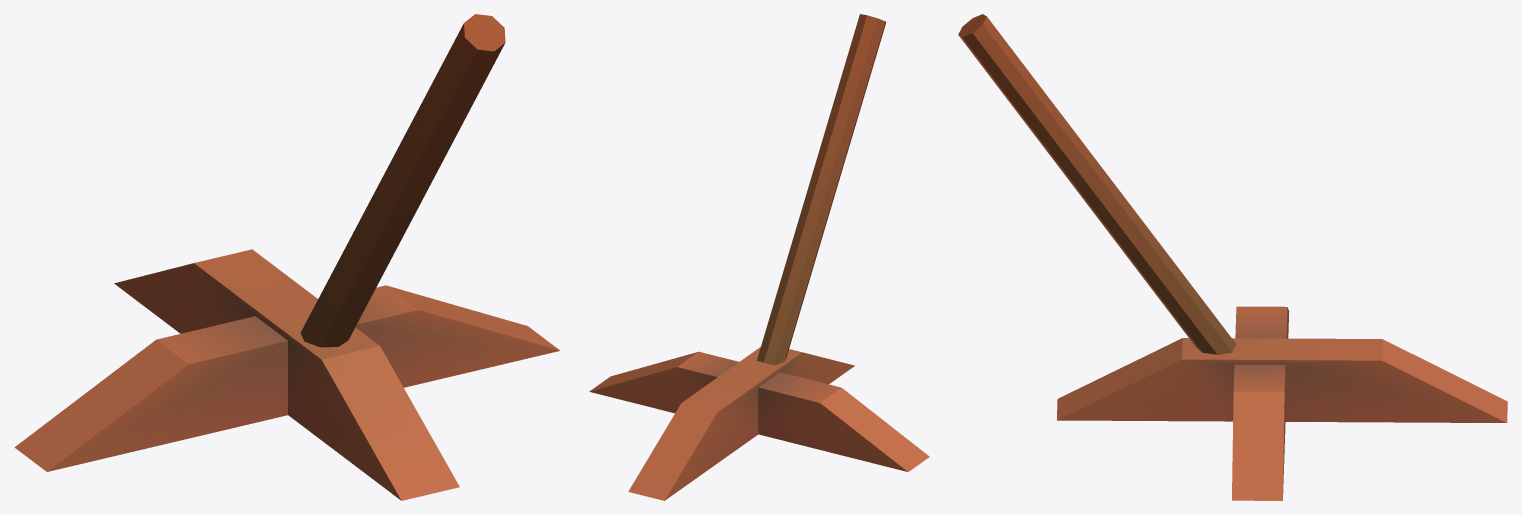
The picture shows the model from 3 angles, left to right: view 1: azimuth 30°, elevation 25°; view 2: azimuth 150°, elevation 25°; view 3: azimuth 270°, elevation 25°; orthographic projection. The views are drawn at different scales.
Visible parts, largest first — view 1: horizontal_foot, octagonal_shaft; view 2: horizontal_foot, octagonal_shaft; view 3: horizontal_foot, octagonal_shaft.
Boxes of the visible parts, x1,y1,x2,y2 form: horizontal_foot: [14, 249, 560, 500]; octagonal_shaft: [300, 14, 505, 347]; horizontal_foot: [589, 347, 929, 500]; octagonal_shaft: [757, 14, 885, 365]; horizontal_foot: [1057, 306, 1507, 500]; octagonal_shaft: [958, 14, 1236, 354].
Size of the model in its own units: 0.4096 by 0.3943 by 0.5005.
